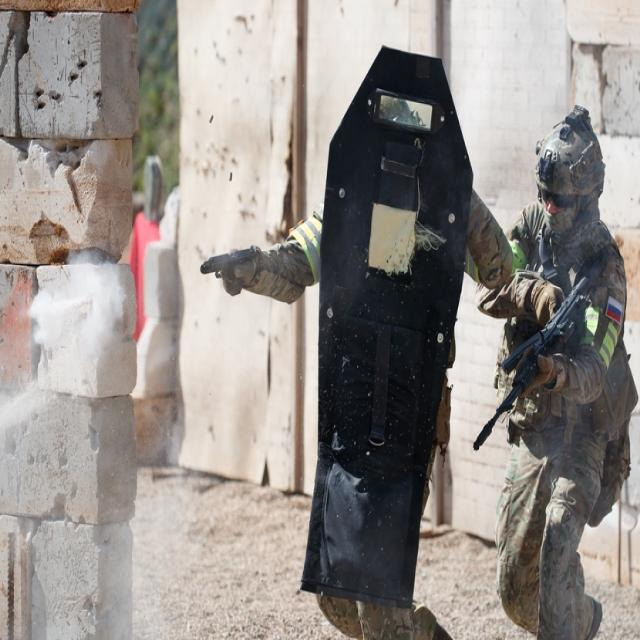firearm: (472, 274, 592, 450)
pistol: (200, 245, 258, 280)
